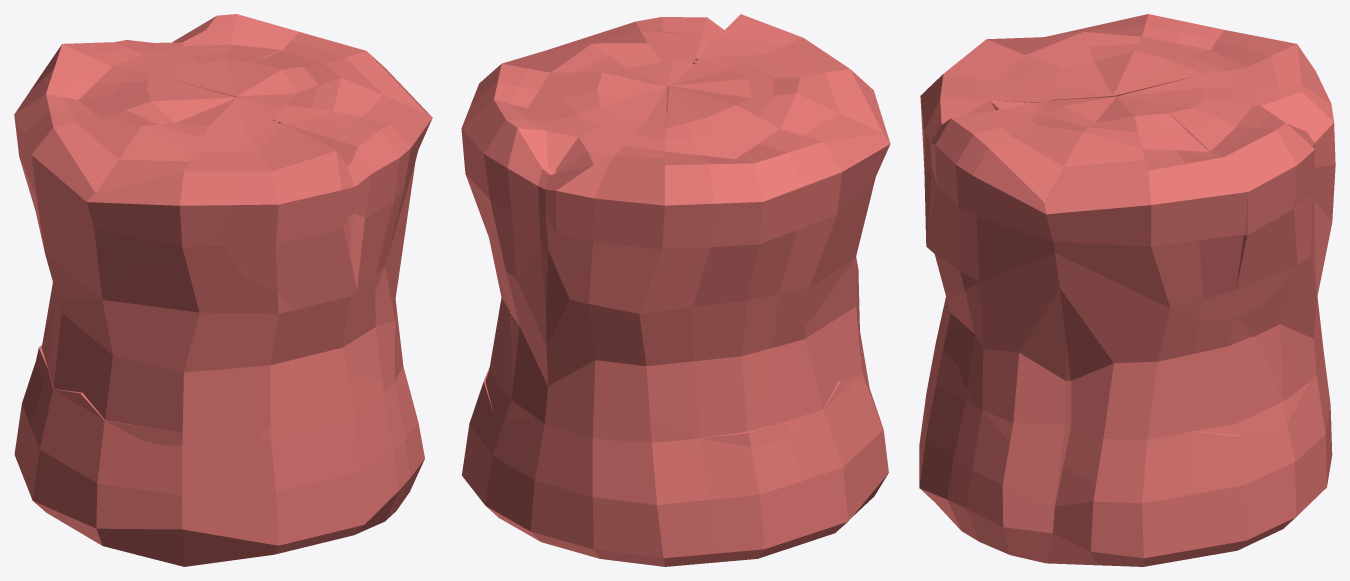
3 views of the same model, side by side, from view 1: azimuth 30°, elevation 25°; view 2: azimuth 150°, elevation 25°; view 3: azimuth 270°, elevation 25° (orthographic). The views are drawn at different scales.
Visible parts, largest first — view 1: Cylinder.001, Cylinder.006, Cylinder.005, Cylinder.003, Cylinder.004, Cylinder.002, Cylinder; view 2: Cylinder.006, Cylinder.001, Cylinder, Cylinder.007, Cylinder.004, Cylinder.005, Cylinder.003, Cylinder.002; view 3: Cylinder.002, Cylinder.001, Cylinder.004, Cylinder, Cylinder.003, Cylinder.006, Cylinder.007.
Boxes of the visible parts, x1,y1,x2,y2 form: Cylinder.001: (14, 345, 424, 566); Cylinder.006: (14, 44, 308, 347); Cylinder.005: (42, 246, 304, 438); Cylinder.003: (215, 95, 432, 356); Cylinder.004: (236, 32, 431, 138); Cylinder.002: (258, 163, 415, 439); Cylinder: (63, 14, 299, 96); Cylinder.006: (639, 36, 890, 438); Cylinder.001: (462, 332, 888, 566); Cylinder: (461, 58, 696, 313); Cylinder.007: (496, 270, 649, 419); Cylinder.004: (462, 31, 707, 127); Cylinder.005: (749, 257, 862, 431); Cylinder.003: (546, 14, 814, 50); Cylinder.002: (485, 271, 511, 419); Cylinder.002: (936, 253, 1291, 483); Cylinder.001: (919, 326, 1332, 566); Cylinder.004: (995, 96, 1247, 320); Cylinder: (990, 44, 1335, 319); Cylinder.003: (920, 65, 1063, 295); Cylinder.006: (955, 14, 1296, 102); Cylinder.007: (1233, 223, 1331, 414).
Bounding box in the file's own units: 198 × 211 × 194.
